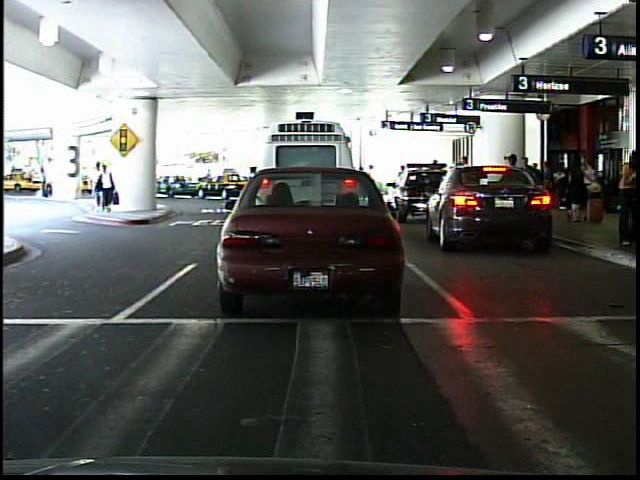person: (88, 157, 122, 214), (39, 165, 55, 203)
